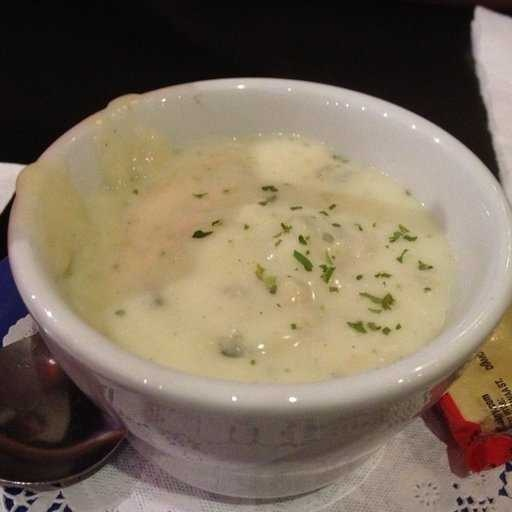soup: (28, 71, 484, 397)
